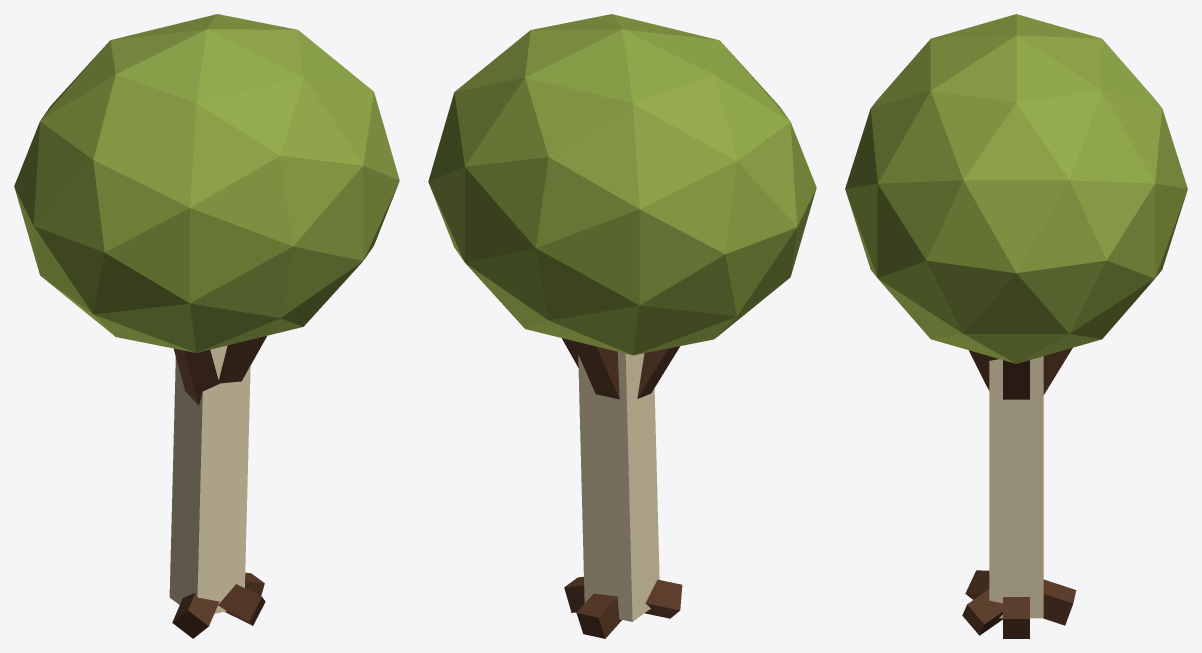
File: BirchTree__Single.fbx
The picture shows the model from 3 angles, left to right: view 1: azimuth 30°, elevation 25°; view 2: azimuth 150°, elevation 25°; view 3: azimuth 270°, elevation 25°; orthographic projection.
Parts seen in each view (by area): view 1: BirchTree__Single; view 2: BirchTree__Single; view 3: BirchTree__Single.
Part boxes in pixels (box(x1,y1,x2,y2)): BirchTree__Single: box(14, 14, 399, 638); BirchTree__Single: box(428, 14, 816, 638); BirchTree__Single: box(845, 14, 1187, 638).
Bounding box in the file's own units: 270 × 439 × 232.
1 material, 1 textured.
